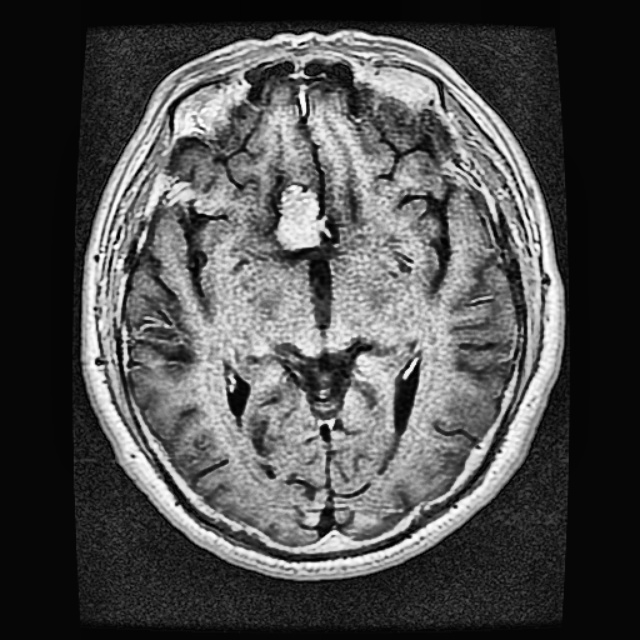Pituitary: (278, 184, 320, 249)
